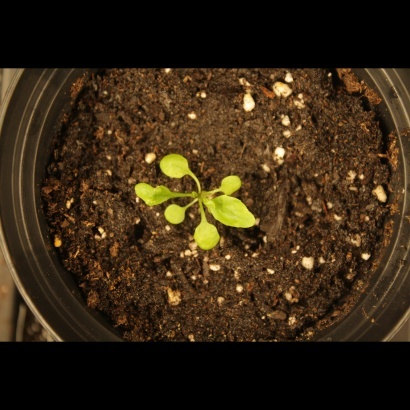leaf: (203, 196, 263, 233), (132, 178, 182, 209), (155, 151, 196, 183), (191, 217, 225, 251), (217, 169, 248, 197), (162, 201, 190, 229)
